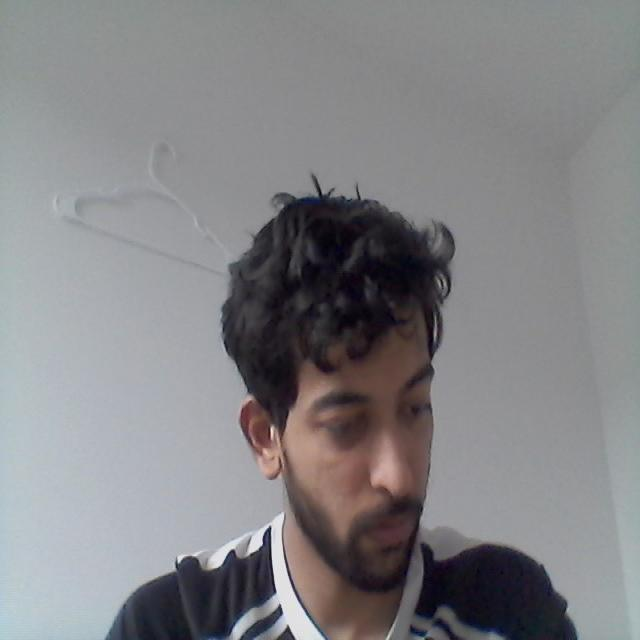nocap: (204, 166, 482, 366)
